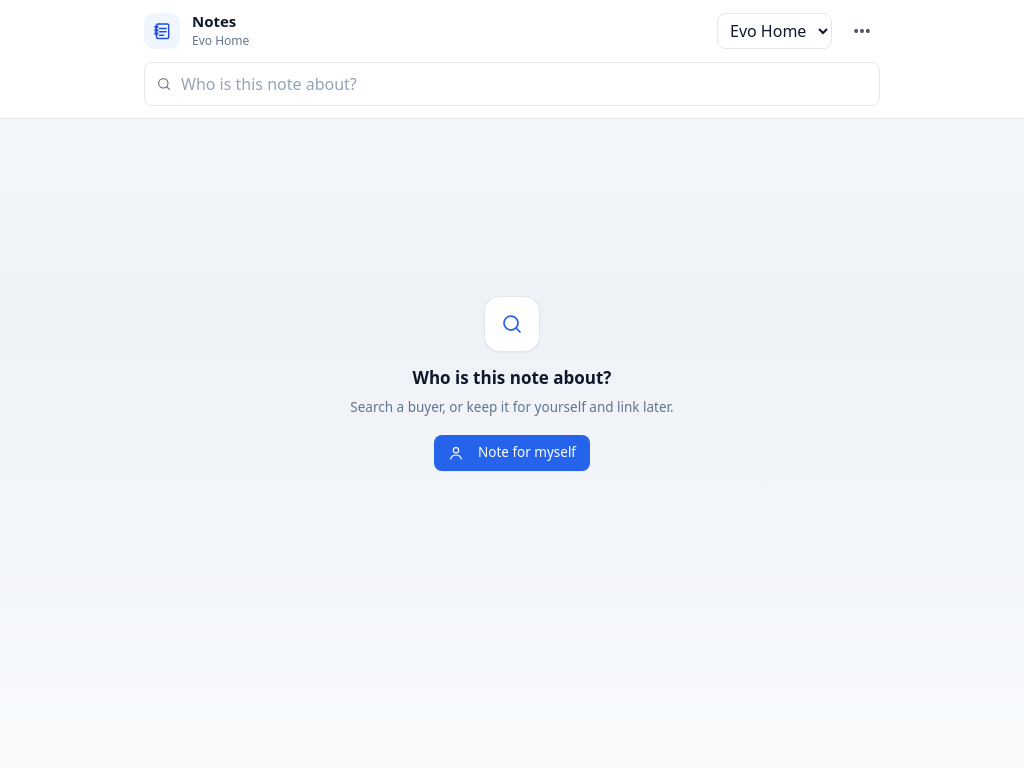
Scenario: VisitNotesApp › keeps a ChatGPT-style composer with CRM actions after capture
Type "Ada" into the field with placeholder "Who is this note about?". click: (512, 84)
box: [144,62,880,106]
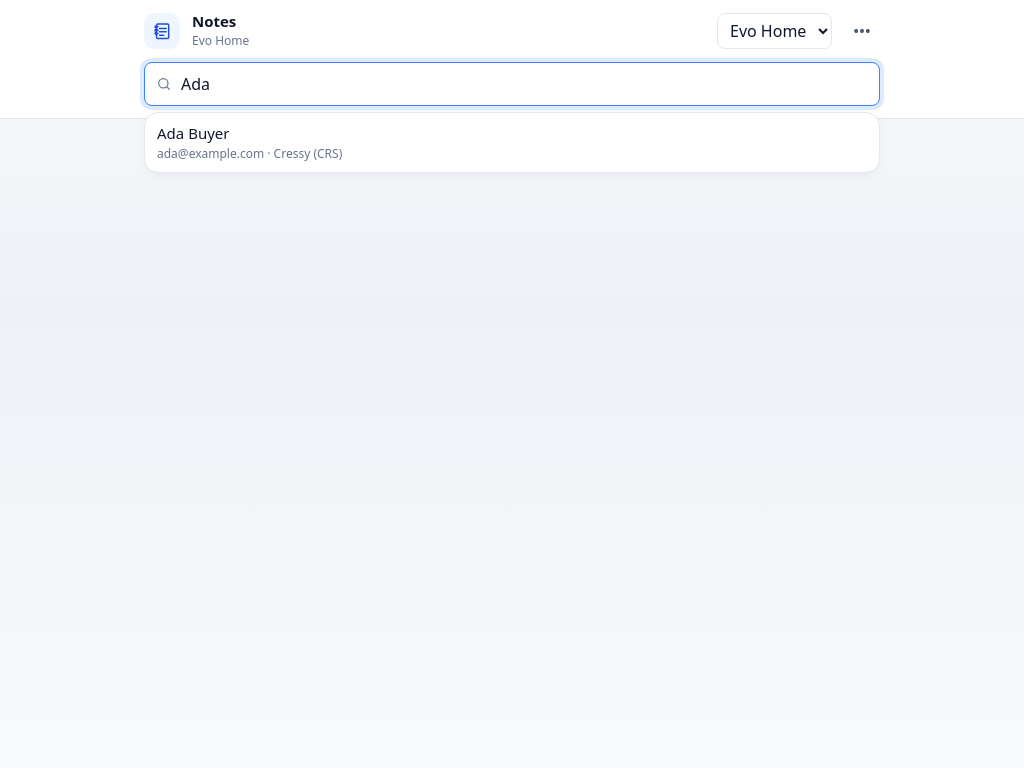
Result: the text "Ada Buyer" is shown at [157,123,230,143]
Result: the text "ada@example.com · Cressy (CRS)" is shown at [157,145,342,162]
Click the button with test id "notes-lead-hit". click: (193, 133)
box: [145,113,879,172]
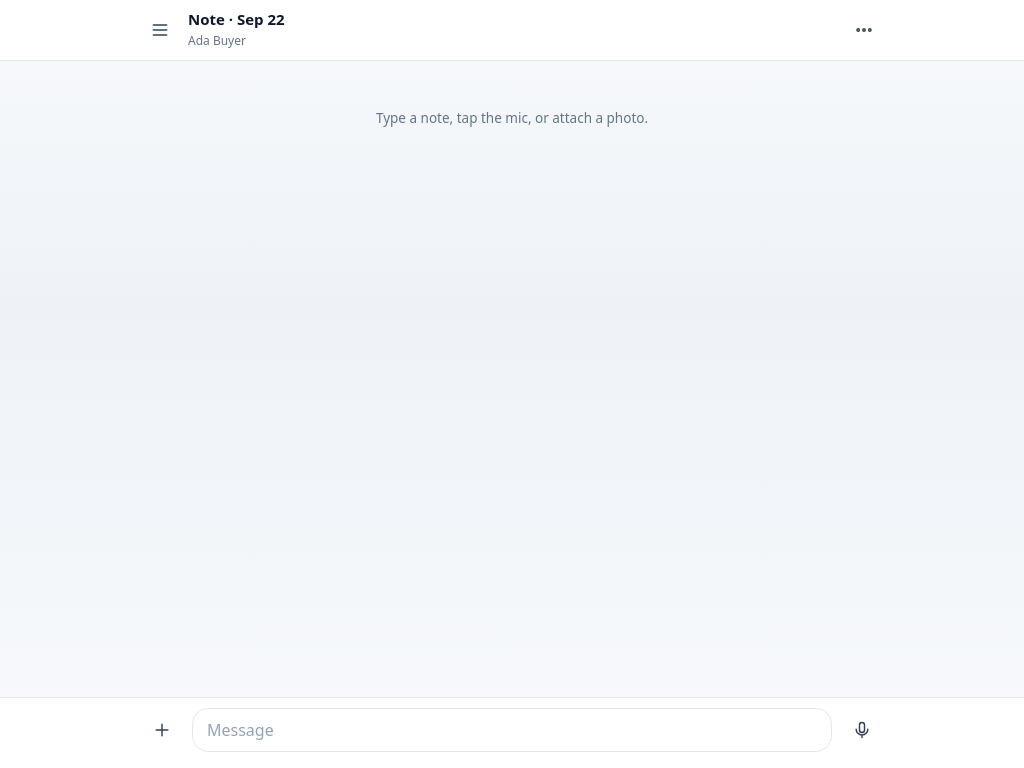
Result: the text box named "note message" is shown at [192,708,832,752]
Result: the form named "note message" is shown at [128,698,896,762]
Result: the button named "record audio" is shown at [840,708,884,752]
Click the button named "add attachment". click: (162, 730)
box: [140,708,184,752]
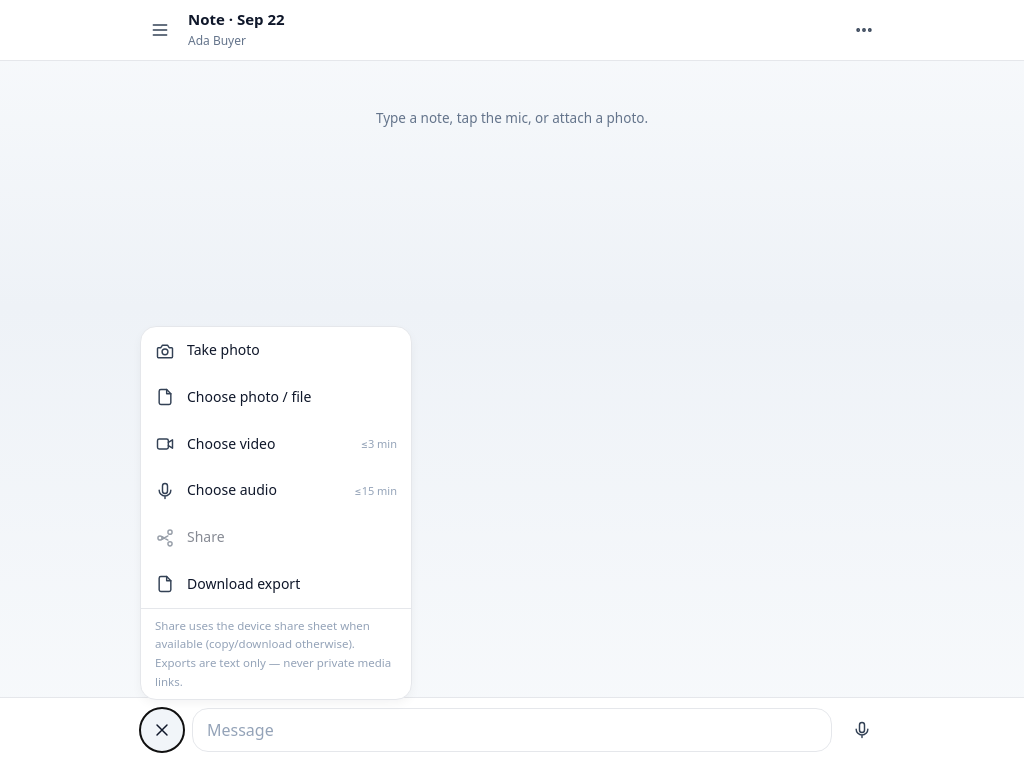
Result: the menu item "Take photo" is shown at [141,327,411,374]
Result: the menu item "Choose photo / file" is shown at [141,374,411,421]
Result: the menu item "Choose video ≤3 min" is shown at [141,421,411,468]
Type "Site visit note" into the text box named "note message". click: (512, 730)
box: [192,708,832,752]
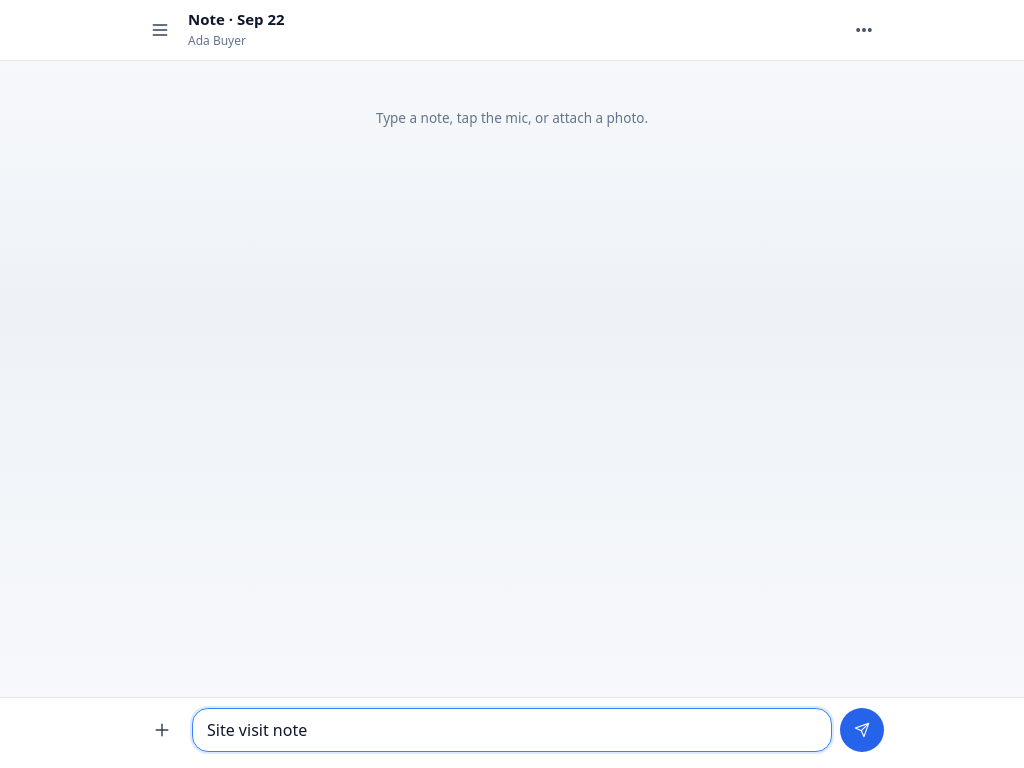
Result: the button named "send note" is shown at [840,708,884,752]
